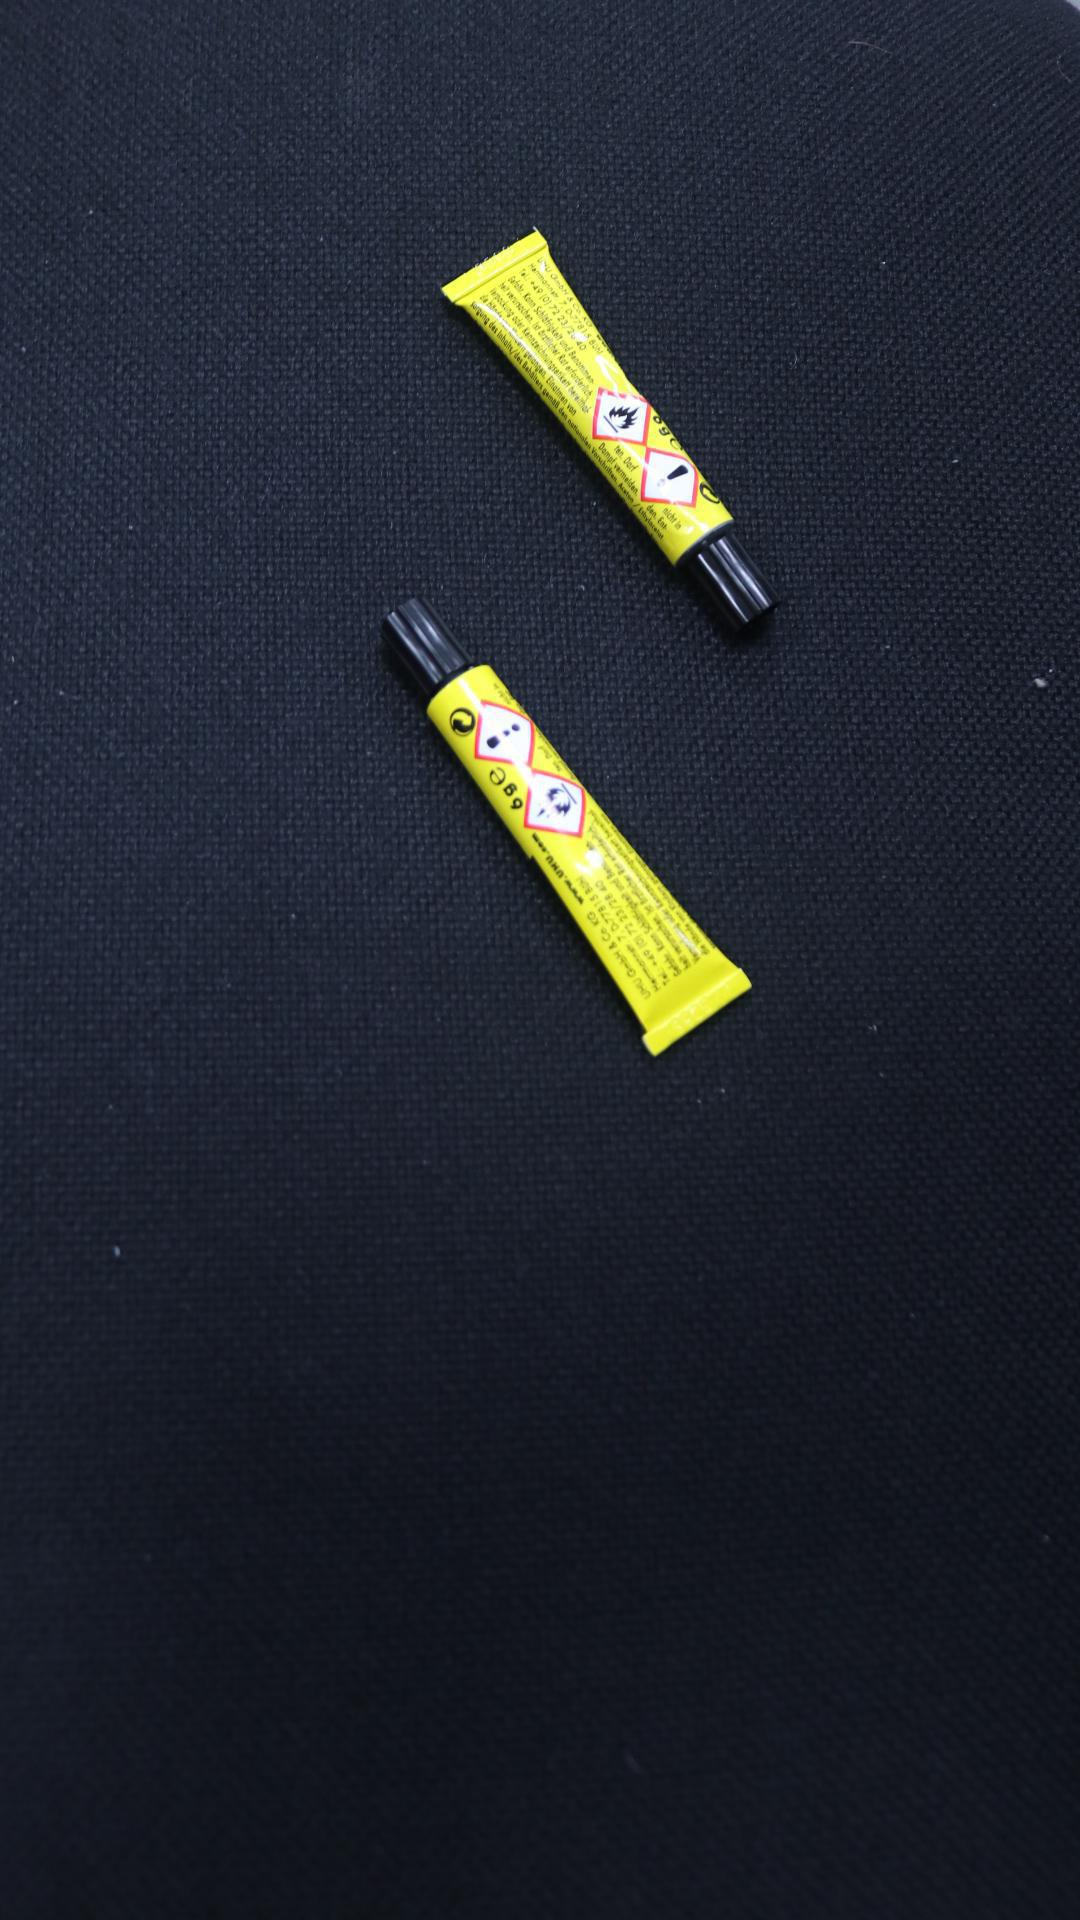Head: (421, 641, 432, 650), (726, 574, 734, 582)
Tail: (483, 263, 498, 278), (689, 1009, 701, 1021)
Tube: (380, 596, 754, 1055), (440, 225, 775, 641)
